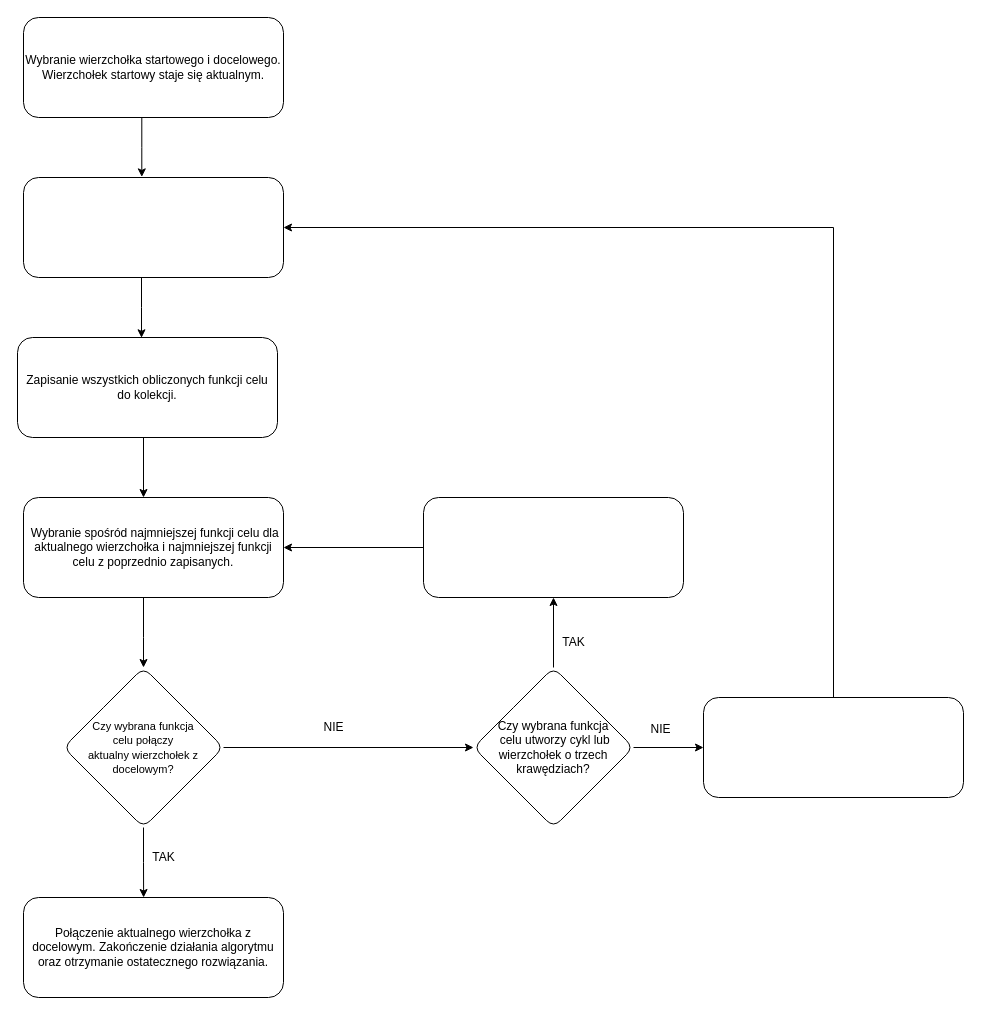
The diagram is 981 pixels wide and 1015 high, and some of its shapes have lost their labels. Each missing label, with the centre of its shape:
Obliczenie funkcji celu od wierzchołka aktualnego dla każdej możliwości drogi.: pixel 153 227
Ustawienie nowego wierzchołka aktualnego z wybranej funkcji celu.: pixel 833 747
Usunięcie wybranej funkcji celu.: pixel 553 547
